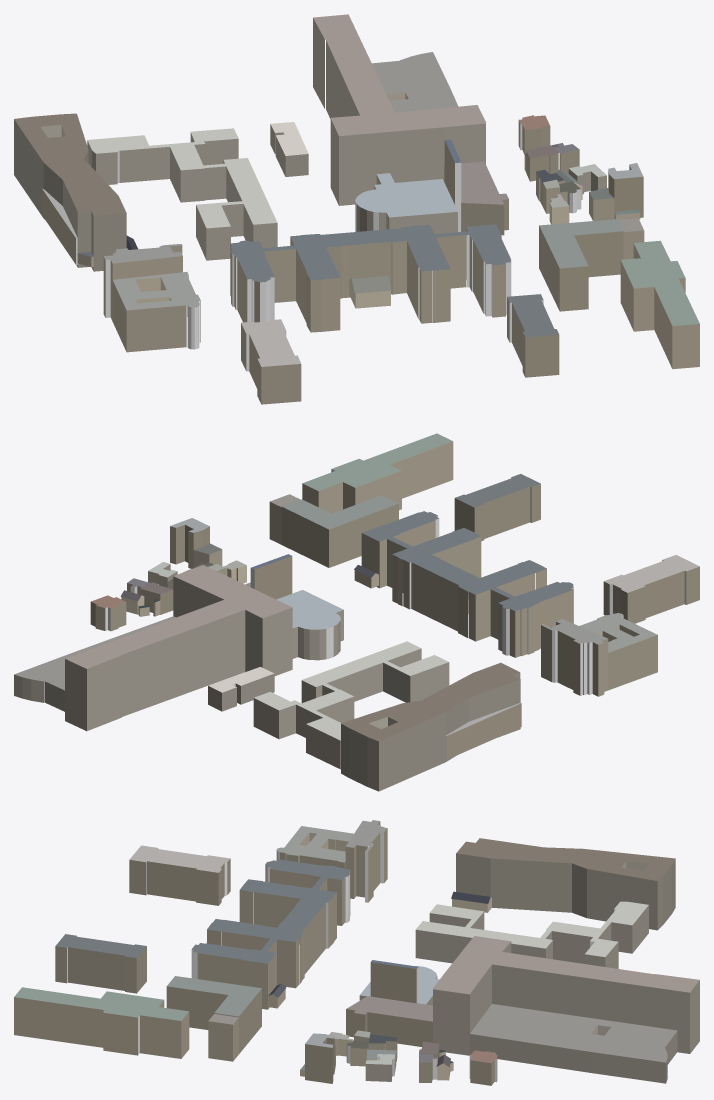
The picture shows the model from 3 angles, top to bottom: view 1: azimuth 30°, elevation 25°; view 2: azimuth 150°, elevation 25°; view 3: azimuth 270°, elevation 25°; orthographic projection. The views are drawn at different scales.
Visible parts, largest first — view 1: tuile; view 2: tuile; view 3: tuile.
Part boxes in pixels (box(x1,y1,x2,y2)): tuile: box(14, 14, 699, 404); tuile: box(14, 433, 699, 791); tuile: box(14, 820, 699, 1085).
Size of the model in its own units: 266 by 36.83 by 340.
